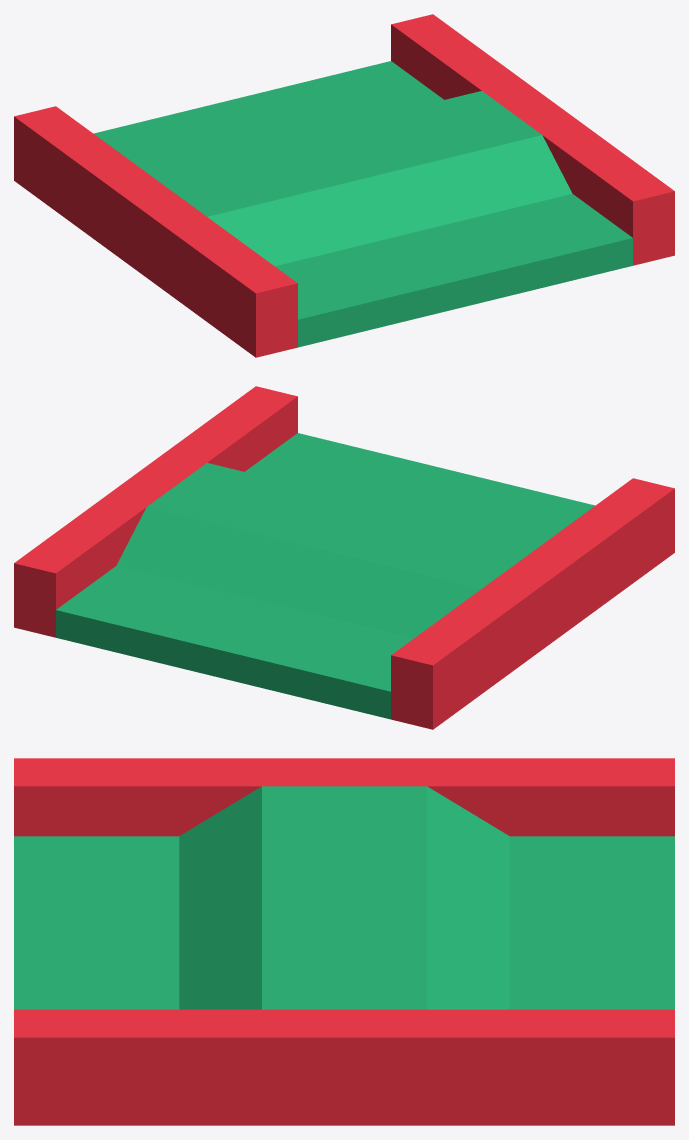
File: hillSquare.fbx
3 views of the same model, one above another, from view 1: azimuth 30°, elevation 25°; view 2: azimuth 150°, elevation 25°; view 3: azimuth 270°, elevation 25° (orthographic). The views are drawn at different scales.
Parts seen in each view (by area): view 1: hillSquare; view 2: hillSquare; view 3: hillSquare.
Part boxes in pixels (x1=…): hillSquare: x1=14, y1=14, x2=674, y2=357; hillSquare: x1=14, y1=386, x2=674, y2=729; hillSquare: x1=14, y1=758, x2=674, y2=1125.
Size of the model in its own units: 10 by 1.47 by 10.
